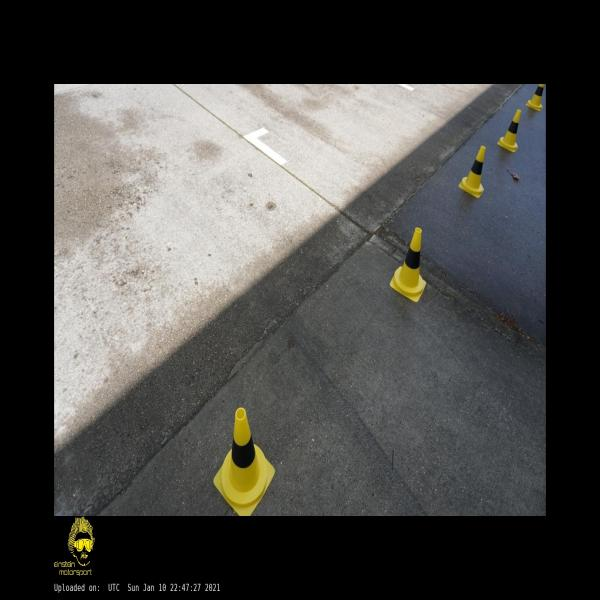yellow_cone: (214, 407, 275, 515), (390, 227, 426, 302), (458, 145, 485, 198), (498, 110, 521, 152), (526, 84, 544, 112)
